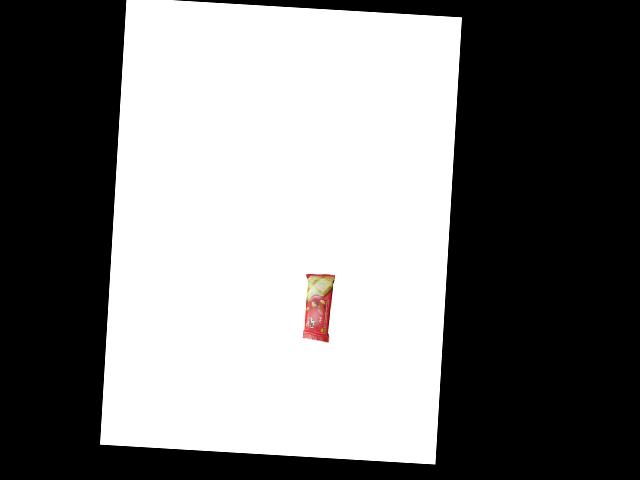chocolate: (300, 272, 339, 347)
